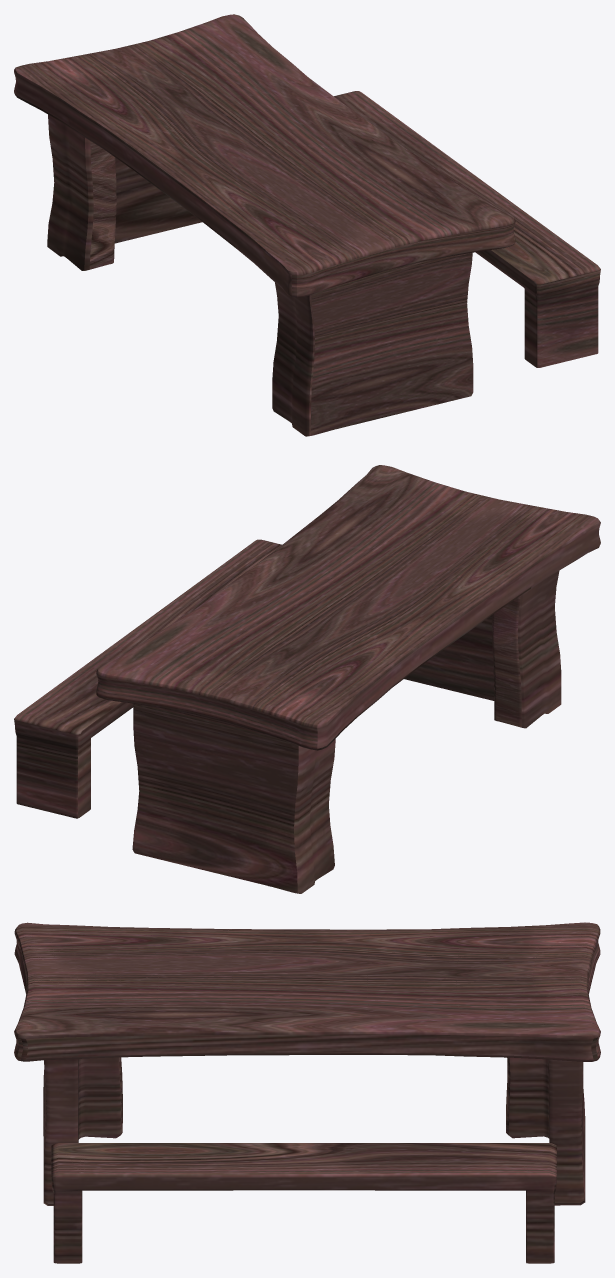
File: table.fbx
3 views of the same model, one above another, from view 1: azimuth 30°, elevation 25°; view 2: azimuth 150°, elevation 25°; view 3: azimuth 270°, elevation 25° (orthographic). The views are drawn at different scales.
Visible parts, largest first — view 1: polySurface3; view 2: polySurface3; view 3: polySurface3.
Boxes of the visible parts, <box> form: polySurface3: <box>14,14,600,436</box>; polySurface3: <box>14,465,600,893</box>; polySurface3: <box>14,922,600,1263</box>.
Bounding box in the file's own units: 9.83 × 5.24 × 14.78.
